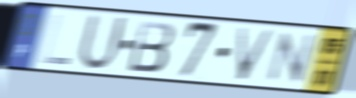7: (177, 19, 220, 81)
B: (125, 18, 178, 74)
L: (39, 13, 72, 68)
N: (263, 30, 319, 85)
U: (75, 11, 130, 74)
V: (235, 25, 279, 83)
